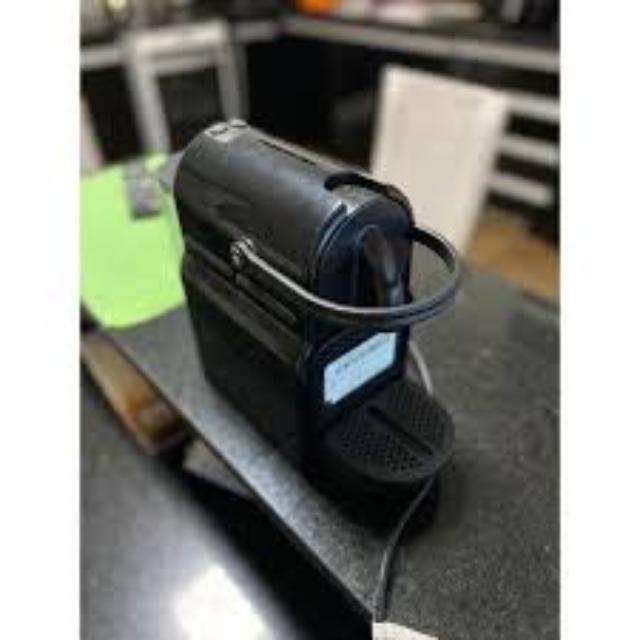Coffee-Machine: (170, 115, 470, 503)
